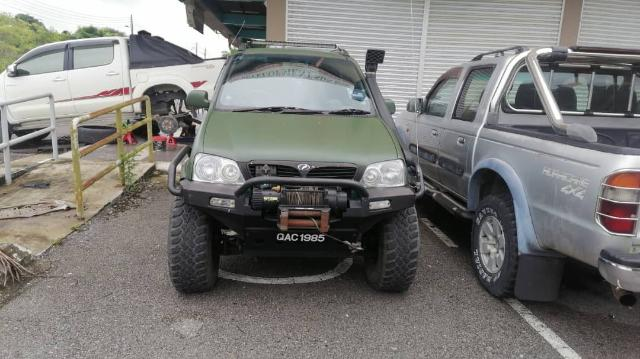License_Plate: (271, 233, 331, 245)
car: (163, 34, 433, 301)
